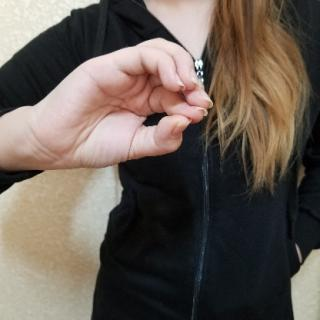HA: (25, 31, 218, 173)
